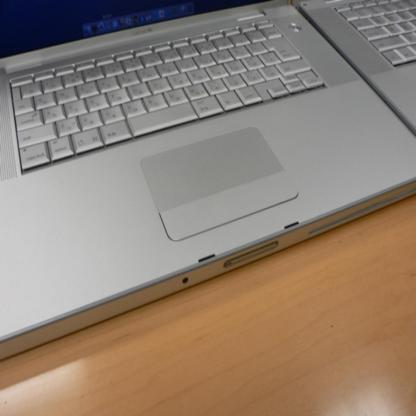board: (0, 0, 416, 361), (293, 0, 415, 134)
